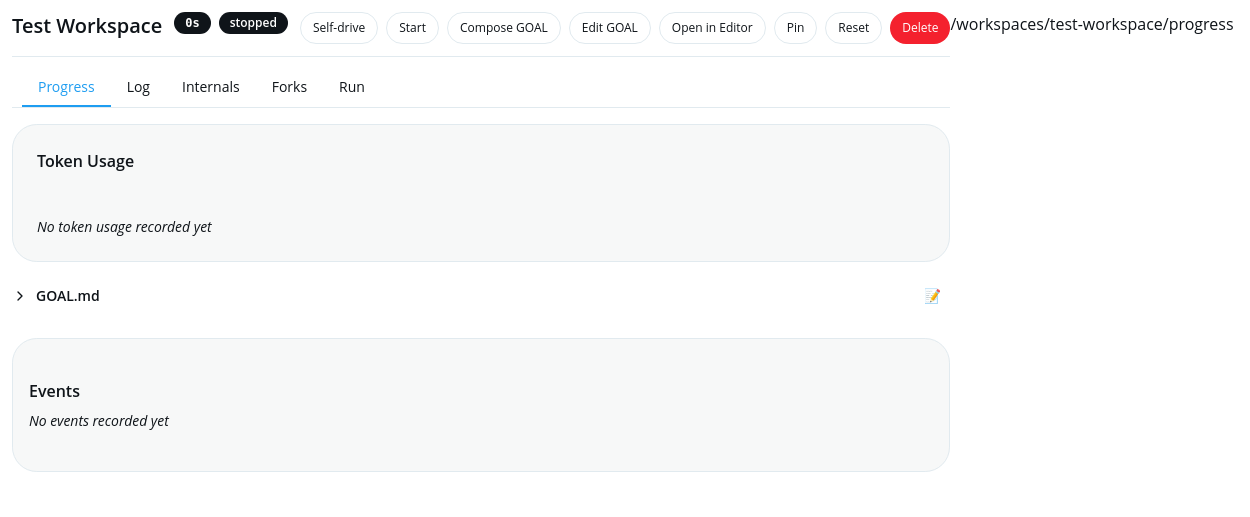
Scenario: WorkspaceDetail › error handling › shows error message when start fails
Click the button "Start": (413, 28) [386,12,439,44]
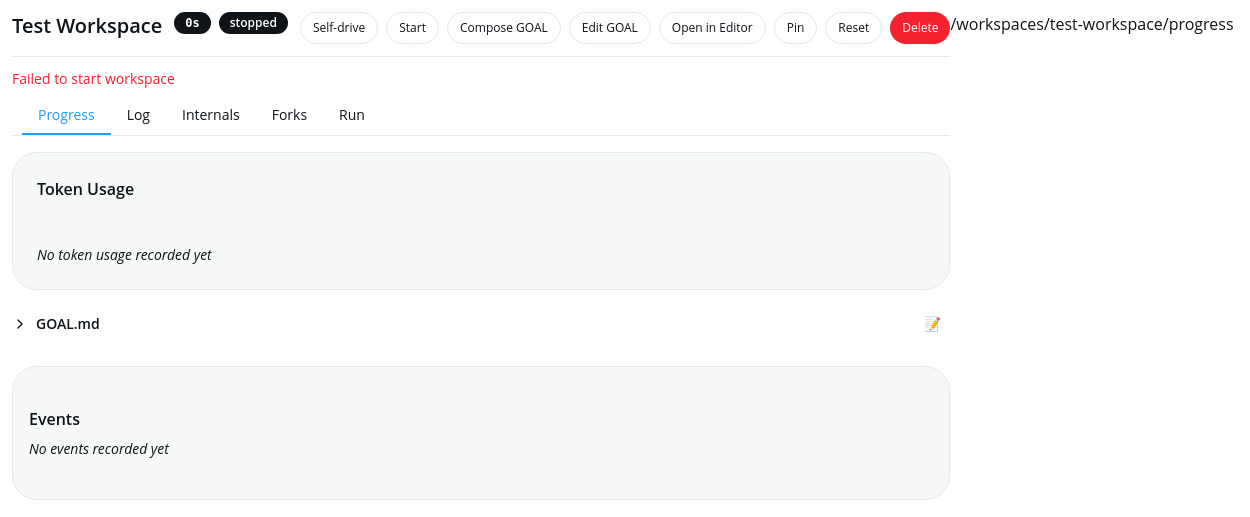
Expected: the text "Failed to start workspace" is shown, [12,69,175,88]
